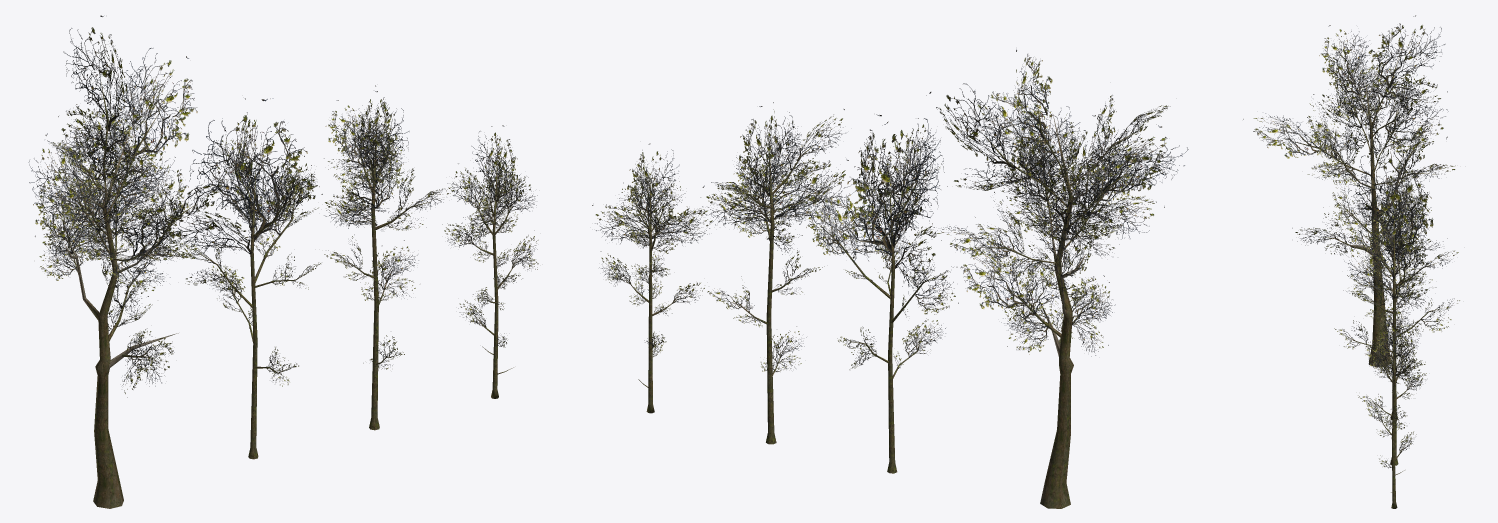
Rendered from arboles2.glb.
3 views of the same model, side by side, from view 1: azimuth 30°, elevation 25°; view 2: azimuth 150°, elevation 25°; view 3: azimuth 270°, elevation 25° (orthographic). The views are drawn at different scales.
Parts seen in each view (by area): view 1: Rama-material.003, Rama-material, Rama-material.002, bark_brown-material.006, Rama-material.001, bark_brown-material, bark_brown-material.002, bark_brown-material.001; view 2: Rama-material.003, Rama-material, Rama-material.002, Rama-material.001, bark_brown-material.006, bark_brown-material, bark_brown-material.002, bark_brown-material.001; view 3: Rama-material.003, Rama-material, Rama-material.002, Rama-material.001, bark_brown-material.006, bark_brown-material.002, bark_brown-material.001, bark_brown-material.
Boxes of the visible parts, x1=… form: Rama-material.003: x1=28, y1=15, x2=226, y2=397; Rama-material: x1=173, y1=98, x2=320, y2=386; Rama-material.002: x1=321, y1=85, x2=454, y2=369; bark_brown-material.006: x1=57, y1=82, x2=196, y2=508; Rama-material.001: x1=442, y1=125, x2=538, y2=347; bark_brown-material: x1=194, y1=156, x2=310, y2=459; bark_brown-material.002: x1=338, y1=114, x2=431, y2=430; bark_brown-material.001: x1=466, y1=165, x2=517, y2=398; Rama-material.003: x1=926, y1=49, x2=1188, y2=356; Rama-material: x1=806, y1=114, x2=958, y2=369; Rama-material.002: x1=699, y1=102, x2=856, y2=371; Rama-material.001: x1=592, y1=143, x2=717, y2=356; bark_brown-material.006: x1=975, y1=99, x2=1140, y2=508; bark_brown-material: x1=819, y1=152, x2=932, y2=473; bark_brown-material.002: x1=726, y1=127, x2=818, y2=444; bark_brown-material.001: x1=623, y1=176, x2=679, y2=413; Rama-material.003: x1=1243, y1=15, x2=1455, y2=255; Rama-material: x1=1332, y1=149, x2=1459, y2=349; Rama-material.002: x1=1343, y1=207, x2=1458, y2=416; Rama-material.001: x1=1365, y1=303, x2=1426, y2=468; bark_brown-material.006: x1=1288, y1=58, x2=1435, y2=367; bark_brown-material.002: x1=1361, y1=234, x2=1438, y2=465; bark_brown-material.001: x1=1379, y1=332, x2=1412, y2=508; bark_brown-material: x1=1339, y1=201, x2=1444, y2=419.
Bounding box in the file's own units: 14.26 × 11.73 × 7.13.
2 materials, 2 textured.
